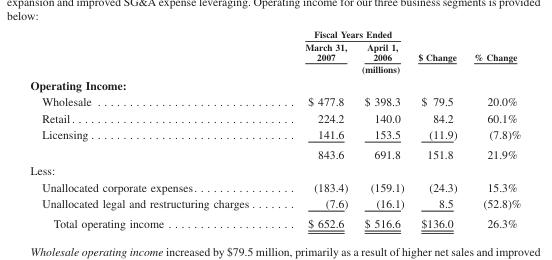table: (29, 28, 520, 229)
table column: (29, 28, 279, 229), (279, 28, 355, 229), (464, 28, 520, 229), (355, 28, 410, 229), (410, 28, 464, 229)
table column header: (29, 28, 520, 76)
table projected row header: (29, 76, 520, 92), (29, 162, 520, 178)
table row: (29, 40, 520, 62), (29, 143, 520, 162), (29, 125, 520, 143), (29, 194, 520, 212), (29, 92, 520, 109), (29, 212, 520, 229), (29, 76, 520, 92), (29, 109, 520, 125), (29, 162, 520, 178), (29, 178, 520, 194), (29, 62, 520, 76), (29, 28, 520, 40)
table spanning cell: (464, 28, 520, 76), (279, 62, 464, 76), (410, 28, 464, 62), (279, 28, 410, 40)
